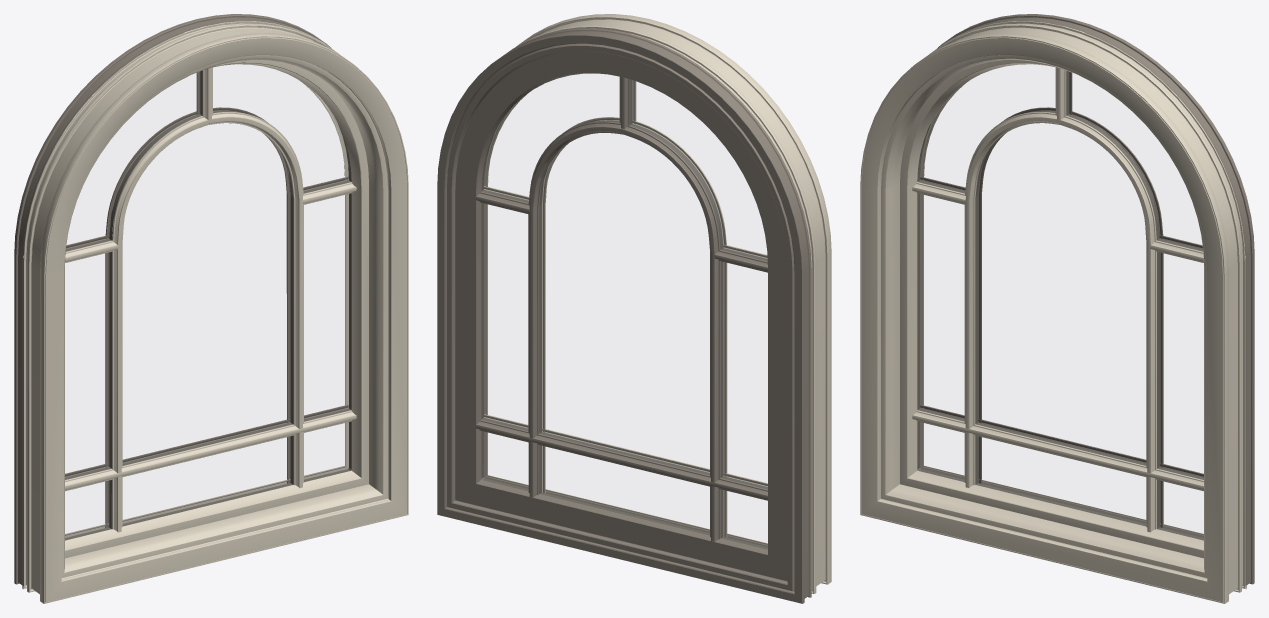
Rendered from 03_Specialty_Window_01.glb.
3 views of the same model, side by side, from view 1: azimuth 30°, elevation 25°; view 2: azimuth 150°, elevation 25°; view 3: azimuth 330°, elevation 25° (orthographic).
Visible parts, largest first — view 1: 03_W_Interior, 03_W_Exterior, 03_W_Spacer; view 2: 03_W_Exterior, 03_W_Interior, 03_W_Spacer; view 3: 03_W_Interior, 03_W_Exterior, 03_W_Spacer.
Part boxes in pixels (x1,y1,x2,y2): 03_W_Interior: (23, 21, 408, 603); 03_W_Exterior: (14, 14, 348, 588); 03_W_Spacer: (65, 71, 351, 540); 03_W_Exterior: (437, 28, 811, 603); 03_W_Interior: (484, 14, 831, 593); 03_W_Spacer: (481, 79, 767, 549); 03_W_Interior: (860, 21, 1245, 603); 03_W_Exterior: (920, 14, 1254, 588); 03_W_Spacer: (917, 70, 1203, 540).
Bounding box in the file's own units: 38.16 × 51.83 × 5.42.
4 materials, 4 textured.
